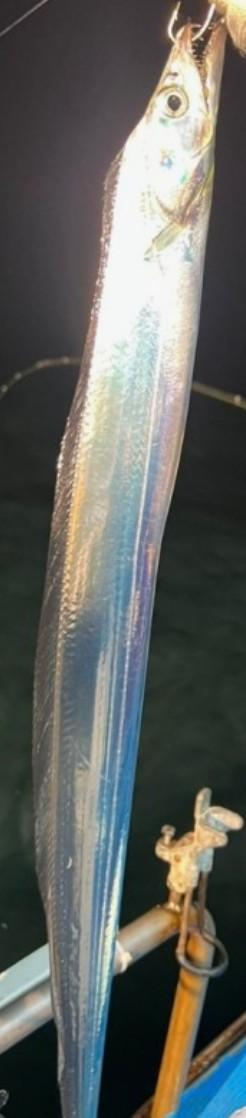fish: (34, 17, 225, 1117)
